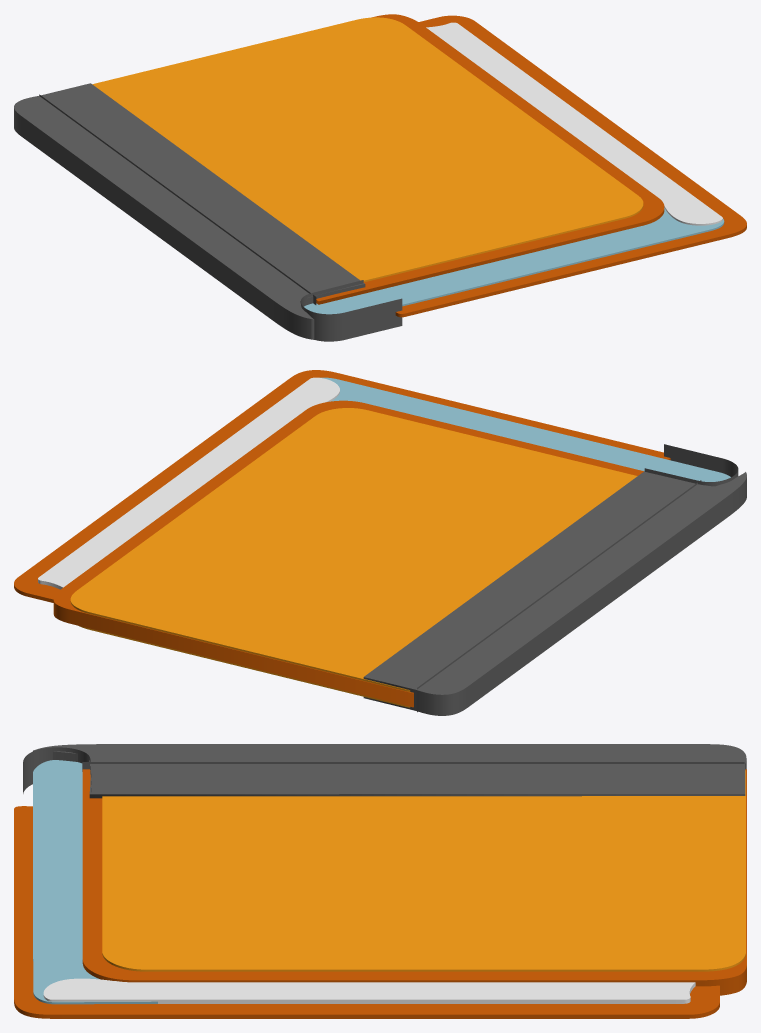
Rendered from emoji_u1f4d9.glb.
3 views of the same model, one above another, from view 1: azimuth 30°, elevation 25°; view 2: azimuth 150°, elevation 25°; view 3: azimuth 270°, elevation 25° (orthographic). The views are drawn at different scales.
Parts seen in each view (by area): view 1: emoji_u1f4d9; view 2: emoji_u1f4d9; view 3: emoji_u1f4d9.
Boxes of the visible parts, x1=… form: emoji_u1f4d9: x1=14, y1=14, x2=746, y2=341; emoji_u1f4d9: x1=14, y1=370, x2=746, y2=715; emoji_u1f4d9: x1=14, y1=744, x2=746, y2=1018.
Size of the model in its own units: 0.0272 by 0.0016 by 0.0324.
